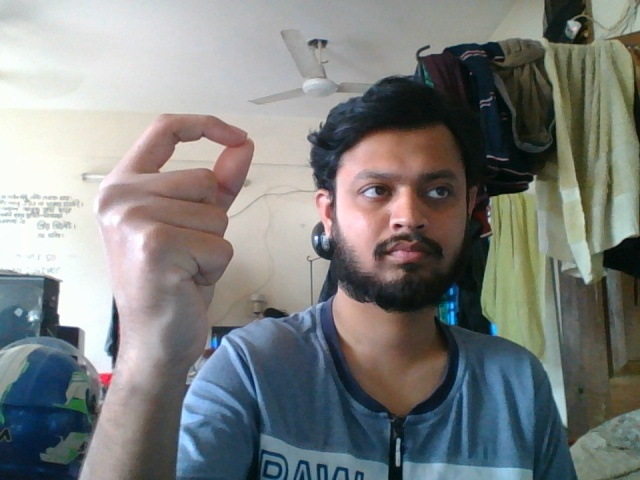gha: (89, 100, 261, 414)
